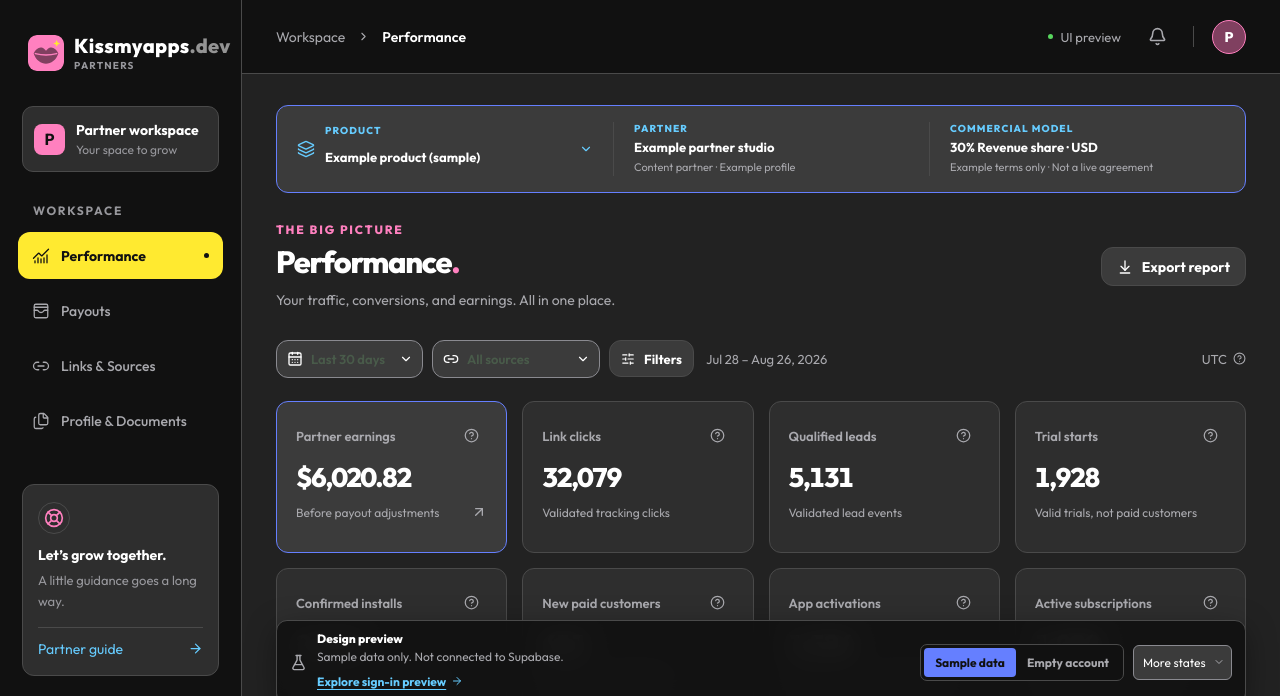
reporting v2 UI › keeps product and agreement placeholders truthful for an empty account
Step 1. Click the button "Empty account" → (1068, 662), box [1016,648,1120,676]
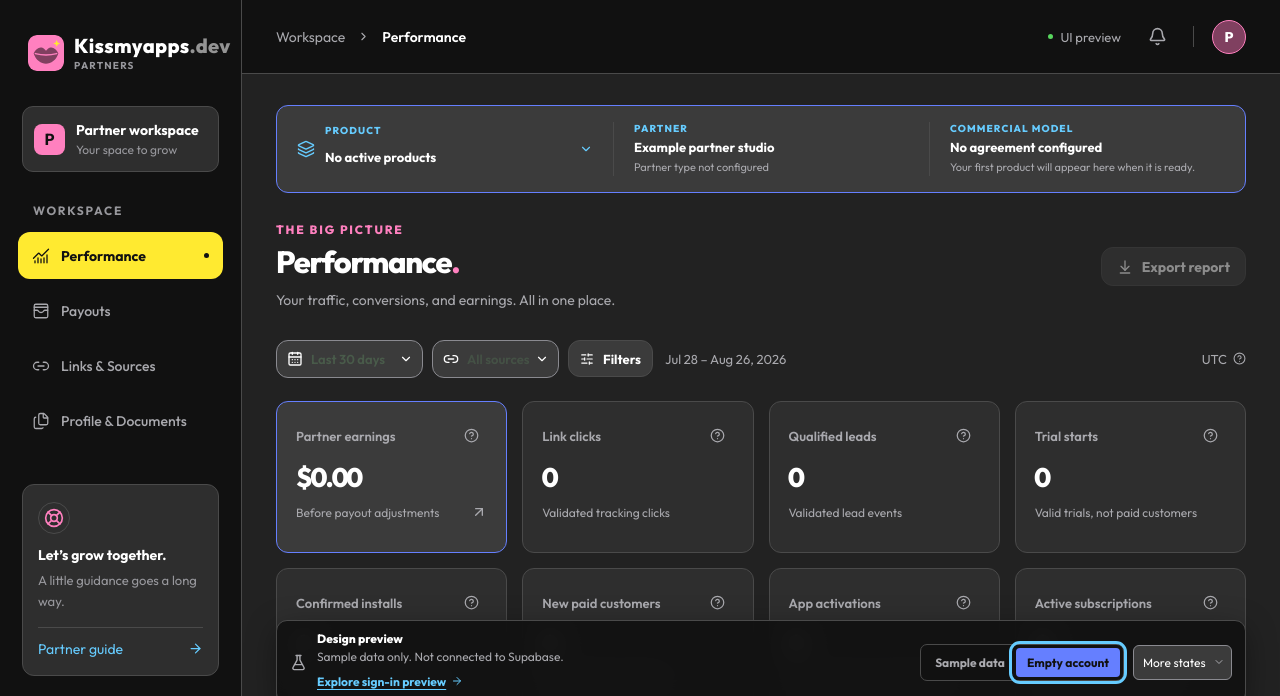
Expected: the element named "Product and partnership context" does not show "Example product", [276,105,1246,192]
Expected: the dropdown labelled "PRODUCT" is disabled, [325,141,569,173]
Expected: the element named "Product and partnership context" shows "No agreement configured", [950,139,1102,155]
